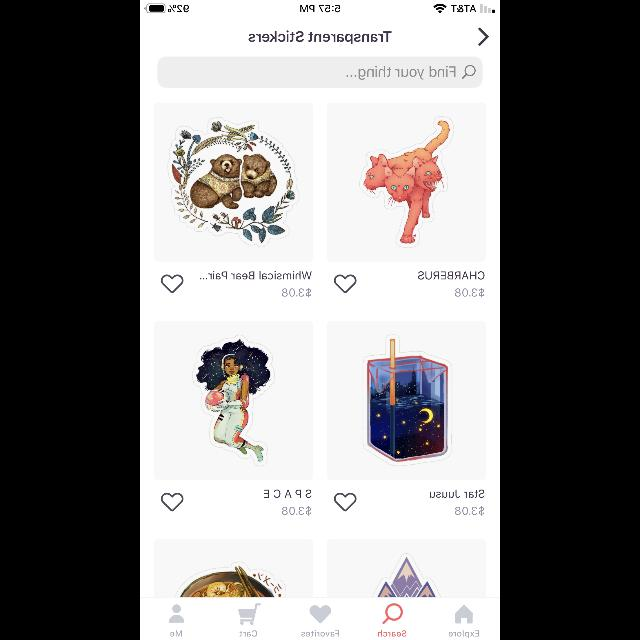icon: (239, 604, 261, 624), (334, 492, 356, 512), (383, 604, 403, 624), (309, 605, 331, 623), (334, 275, 356, 293), (161, 275, 183, 293), (161, 493, 183, 511), (456, 604, 472, 624), (168, 604, 184, 622), (479, 28, 489, 46), (462, 66, 476, 78)
image: (328, 320, 487, 480), (328, 102, 487, 262), (154, 320, 312, 480), (154, 102, 312, 262), (328, 539, 487, 597), (154, 540, 312, 596)
input: (158, 56, 482, 88)
text: (248, 31, 392, 45), (346, 66, 456, 80), (200, 271, 312, 279), (418, 271, 484, 279), (430, 490, 484, 498), (264, 490, 312, 498), (282, 506, 312, 516), (456, 506, 484, 516), (448, 630, 479, 638), (282, 288, 312, 296), (456, 288, 484, 296), (302, 630, 338, 636), (378, 630, 406, 636), (240, 630, 256, 636), (170, 630, 182, 636)
uppertaskbar: (140, 0, 500, 14)
